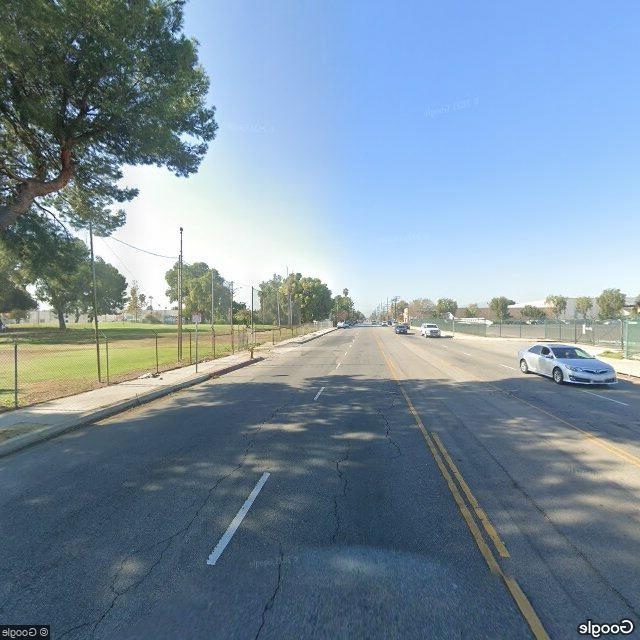crack: (91, 384, 284, 628), (252, 509, 295, 636), (314, 419, 356, 547), (381, 371, 408, 461)
